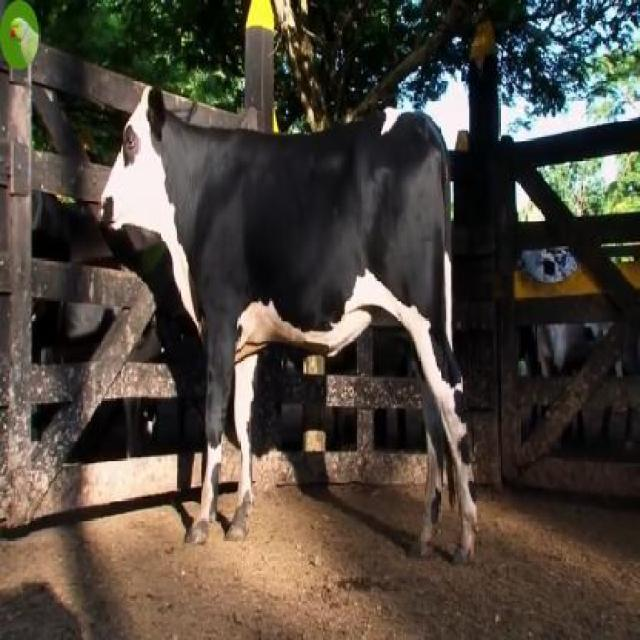Cow: (97, 78, 478, 574)
